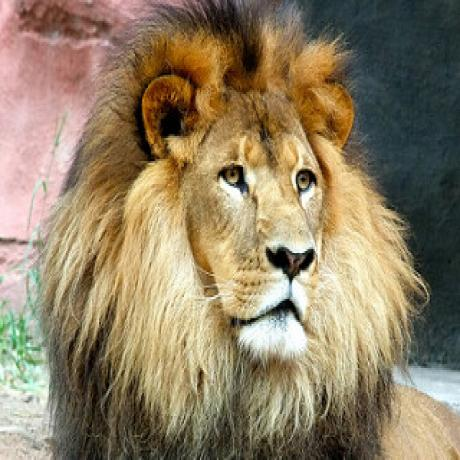Lion: (39, 1, 460, 460)
